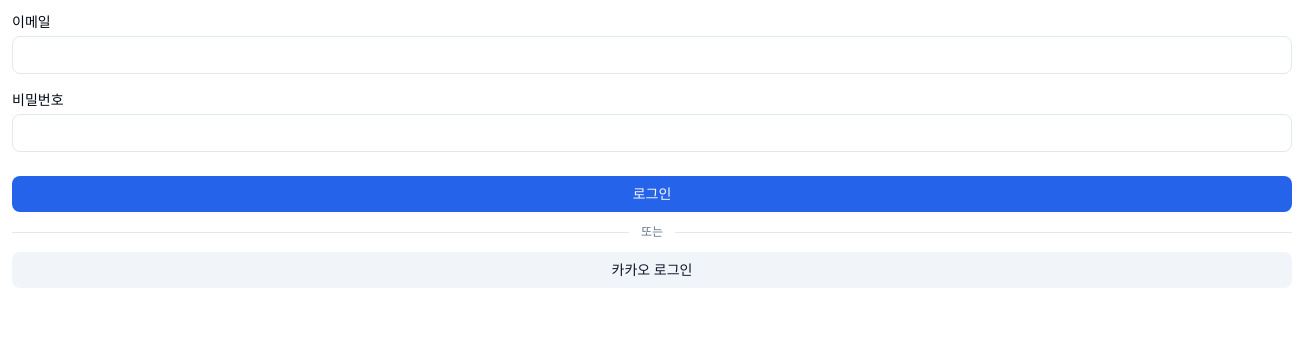
Test: LoginForm › 이메일 미입력 시 유효성 에러를 표시한다
Click the button "로그인".
click(652, 194)  # box left=12, top=176, right=1292, bottom=212
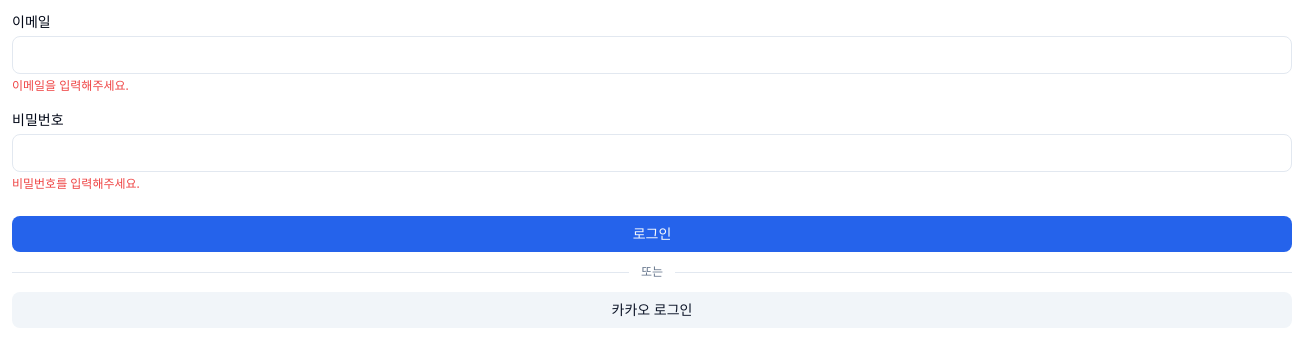
Expected: the text "이메일을 입력해주세요." is shown, left=12, top=77, right=129, bottom=94
